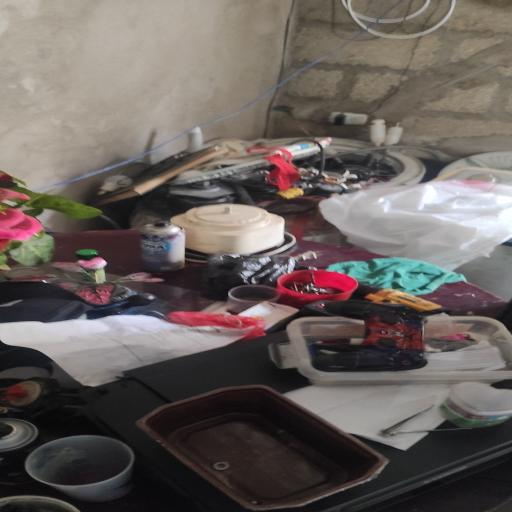ControlPlay4: (306, 300, 428, 372)
